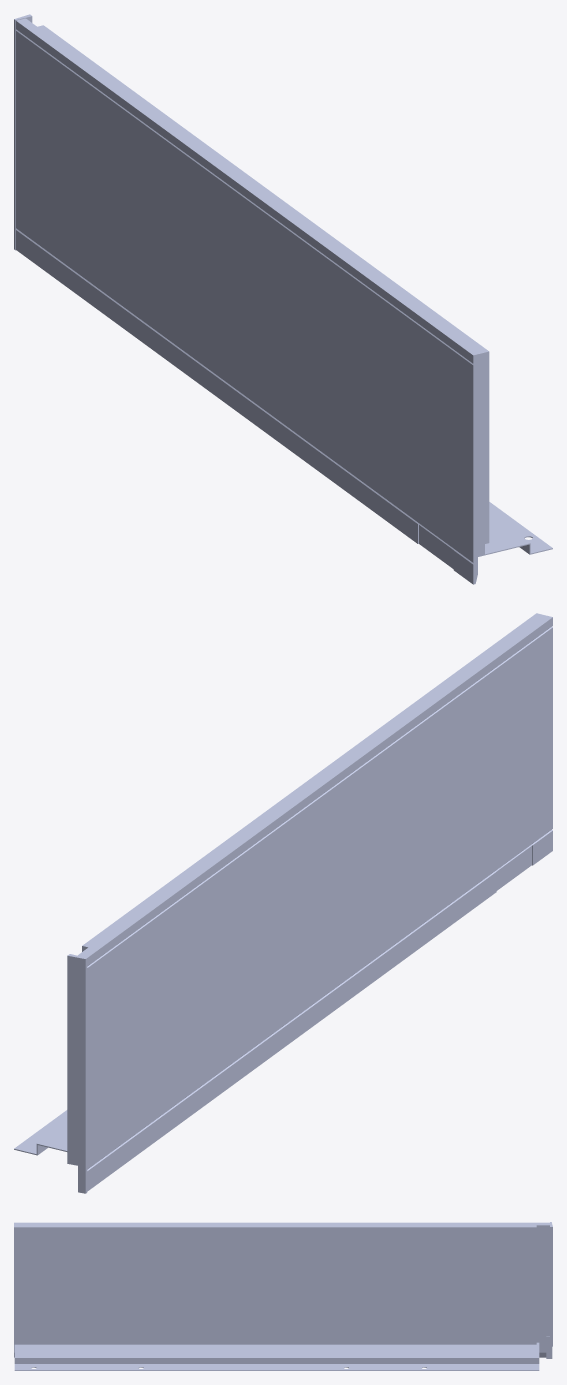
File: lg-kava-C650-p.glb
3 renders of one model, top to bottom at view 1: azimuth 30°, elevation 25°; view 2: azimuth 150°, elevation 25°; view 3: azimuth 270°, elevation 25°, orthographic. The views are drawn at different scales.
Parts seen in each view (by area): view 1: 46974888; view 2: 46974888; view 3: 46974888.
Boxes of the visible parts, left/top/right/bottom form: 46974888: left=14, top=14, right=552, bottom=584; 46974888: left=14, top=613, right=552, bottom=1193; 46974888: left=14, top=1222, right=552, bottom=1370.
Bounding box in the file's own units: 0.0653 × 0.1777 × 0.6435.
